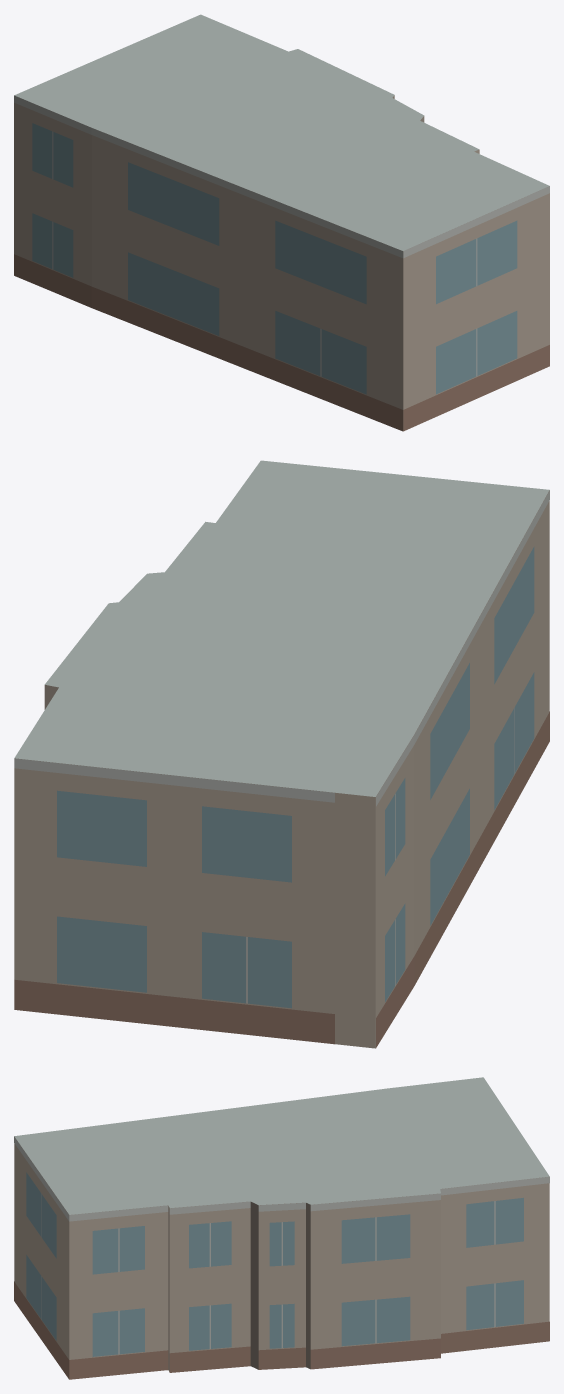
The model's file is survey-upis-33044741.glb.
The picture shows the model from 3 angles, top to bottom: view 1: azimuth 30°, elevation 25°; view 2: azimuth 150°, elevation 25°; view 3: azimuth 270°, elevation 25°; orthographic projection. The views are drawn at different scales.
Parts seen in each view (by area): view 1: survey-upis-33044741.tmp; view 2: survey-upis-33044741.tmp; view 3: survey-upis-33044741.tmp.
Part boxes in pixels (bbox=[...]): survey-upis-33044741.tmp: bbox=[14, 14, 549, 431]; survey-upis-33044741.tmp: bbox=[14, 460, 549, 1048]; survey-upis-33044741.tmp: bbox=[14, 1077, 549, 1379].
Bounding box in the file's own units: 10.95 × 6.1 × 17.99.
